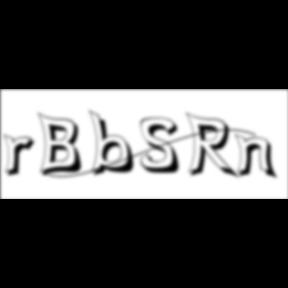B: (38, 111, 88, 179)
R: (186, 112, 243, 182)
S: (140, 117, 186, 176)
b: (88, 109, 142, 179)
n: (234, 132, 282, 181)
r: (4, 134, 42, 180)
